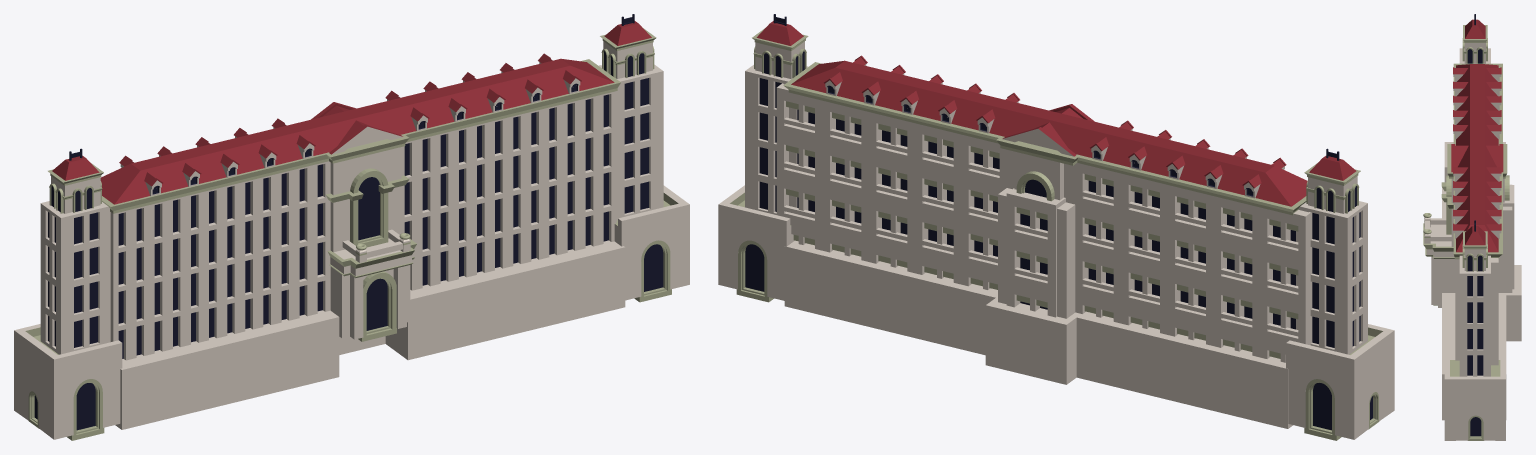
File: KingDavid.fbx
3 renders of one model, left to right at view 1: azimuth 30°, elevation 25°; view 2: azimuth 150°, elevation 25°; view 3: azimuth 270°, elevation 25°, orthographic. The views are drawn at different scales.
Visible parts, largest first — view 1: Cube.149; view 2: Cube.149; view 3: Cube.149.
Boxes of the visible parts, left/top/right/bottom form: Cube.149: left=14, top=14, right=689, bottom=440; Cube.149: left=718, top=14, right=1394, bottom=440; Cube.149: left=1423, top=14, right=1521, bottom=440.
Bounding box in the file's own units: 450 × 183 × 78.76.
